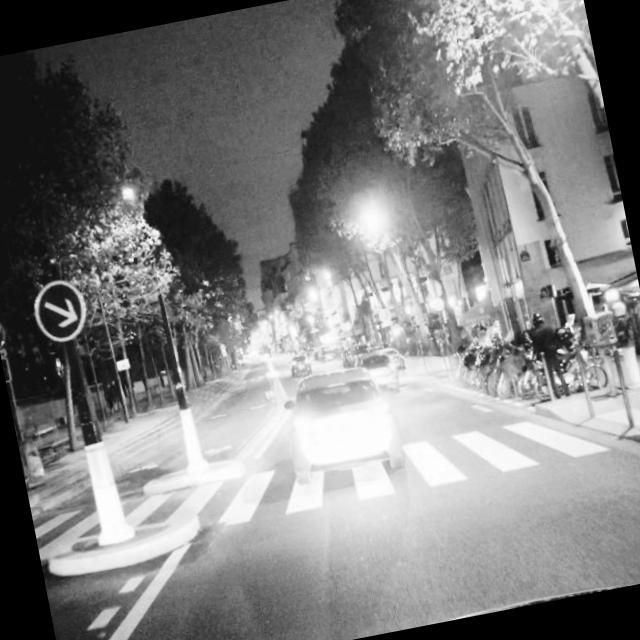Sign: (29, 276, 92, 346), (0, 316, 15, 385)
